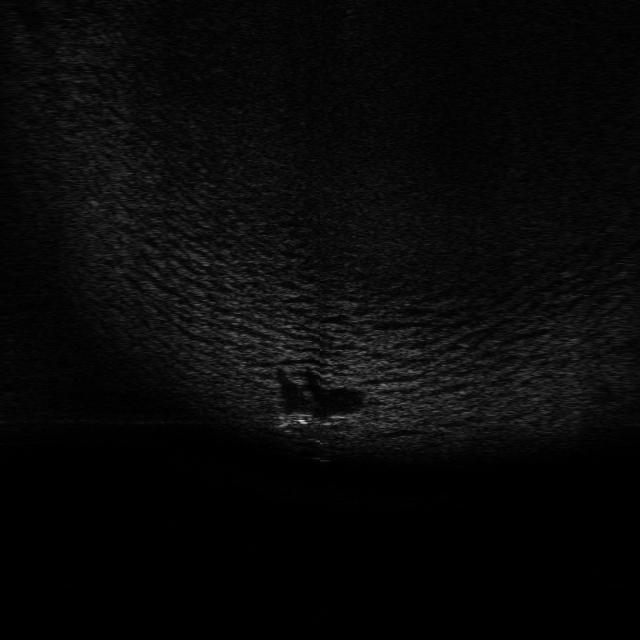plane: (273, 407, 366, 434)
